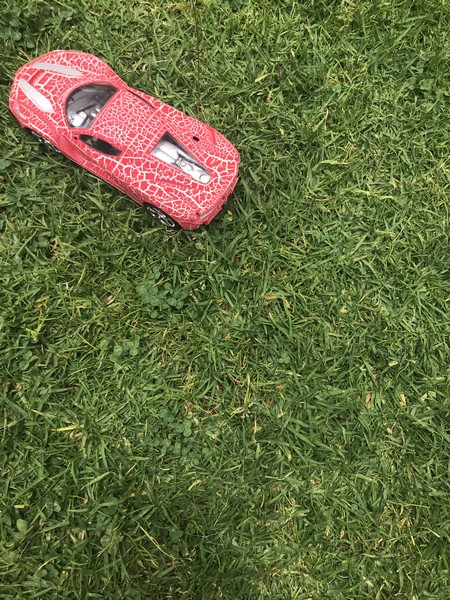RC: (8, 48, 241, 233)
